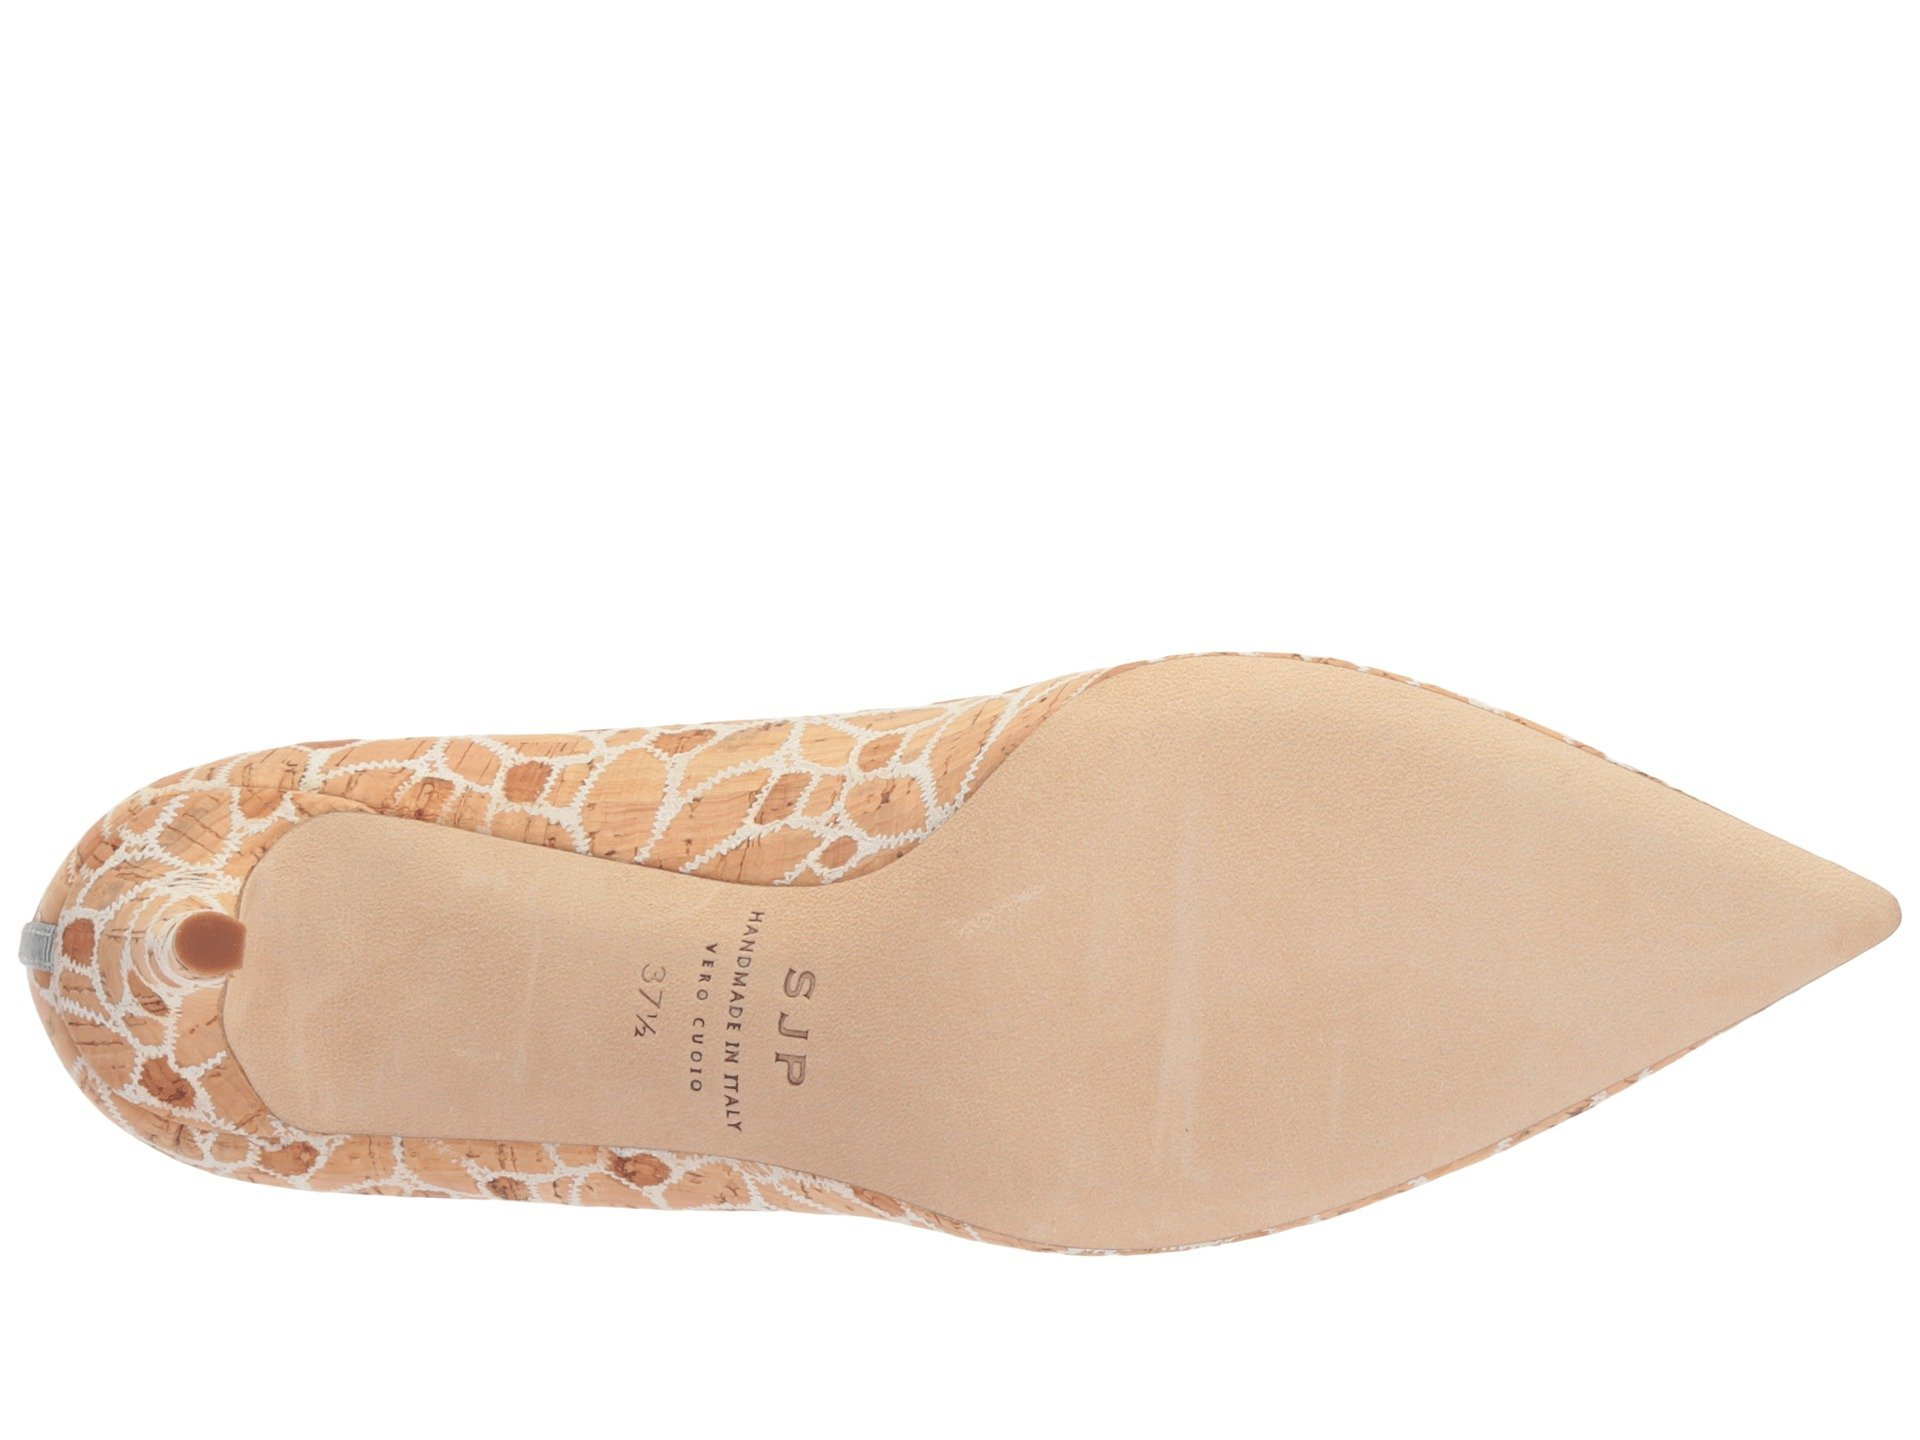exclude: (280, 685, 875, 1301)
